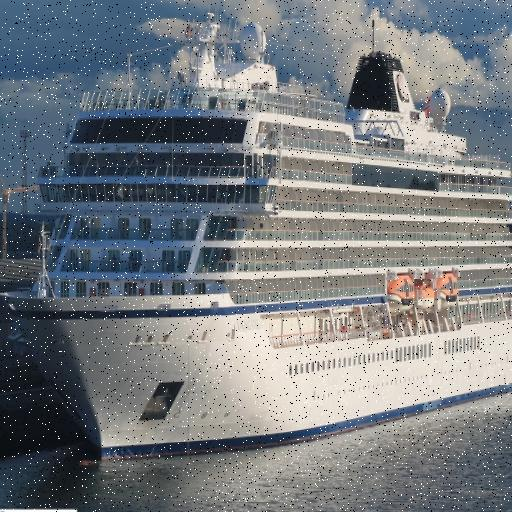cruises: (1, 3, 512, 473)
